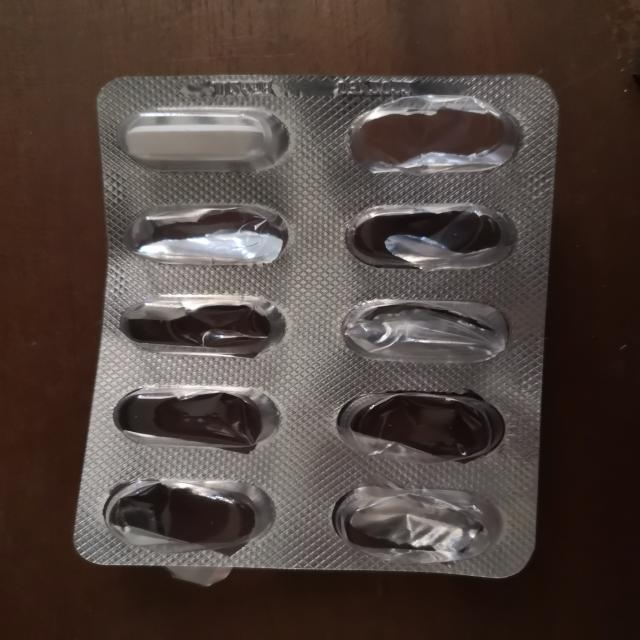Empty: (340, 90, 524, 178), (326, 479, 508, 559), (95, 474, 277, 554), (104, 378, 282, 458), (340, 196, 517, 272), (116, 288, 296, 362), (337, 294, 511, 370), (332, 386, 505, 462), (118, 200, 298, 273)
Pill: (112, 102, 297, 174)
